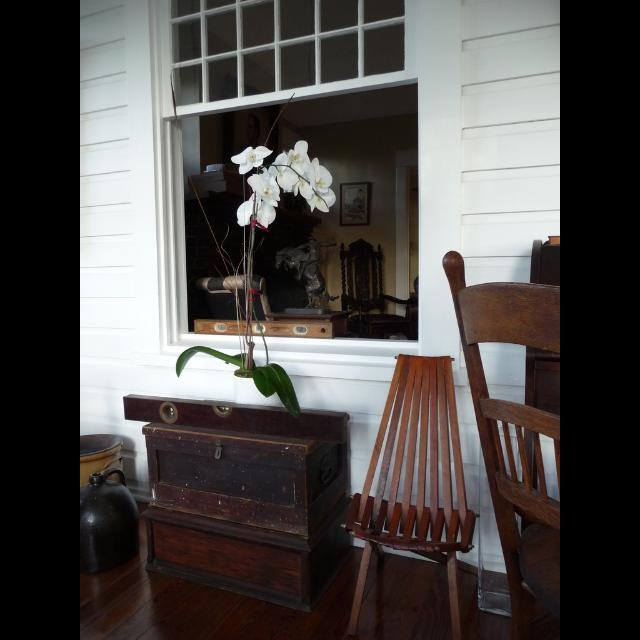Flower: (235, 130, 333, 214)
